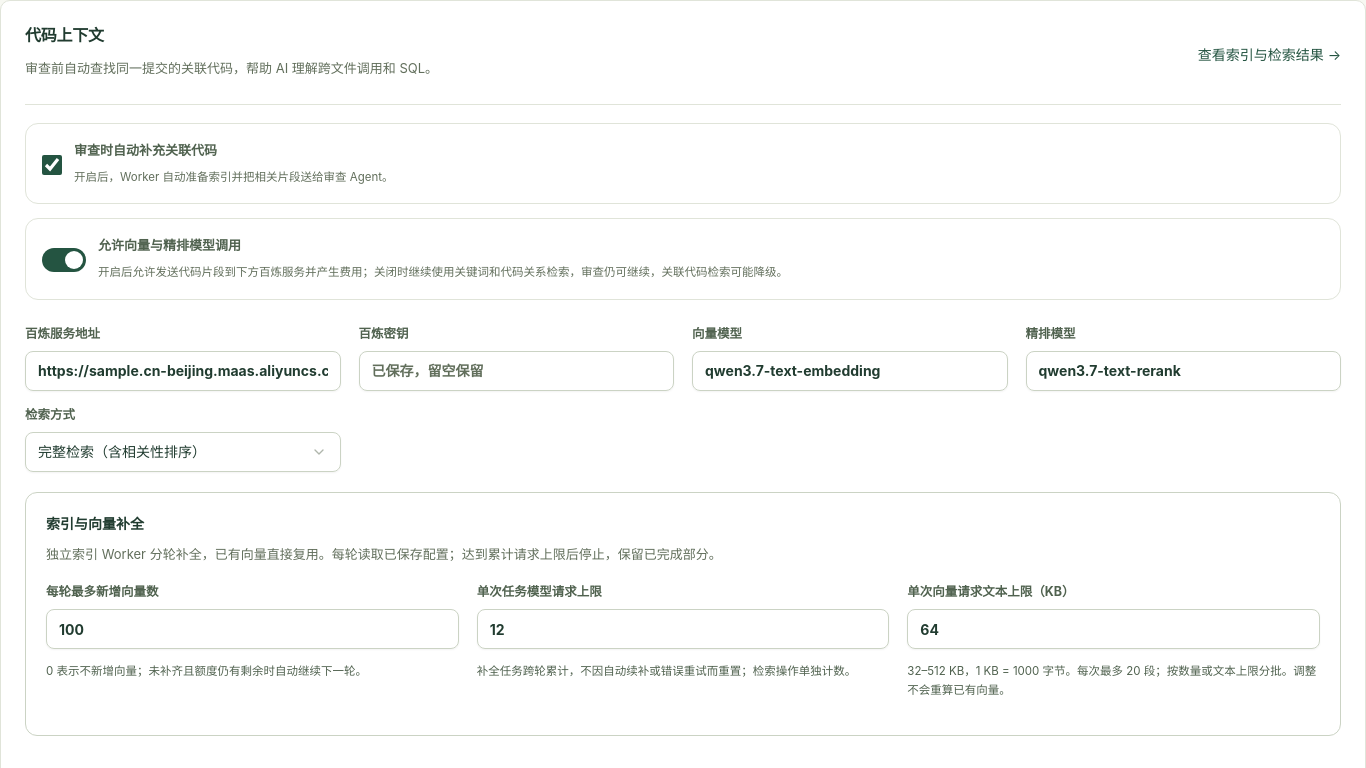
Test: 代码检索页面 › 保存后清空输入密钥，保留后端配置状态
The width and height of the screenshot is (1366, 768).
Type "test-new-key" into the password field labelled "百炼密钥" at (516, 371), box x1=358 y1=351 x2=674 y2=391
(page scrolled)
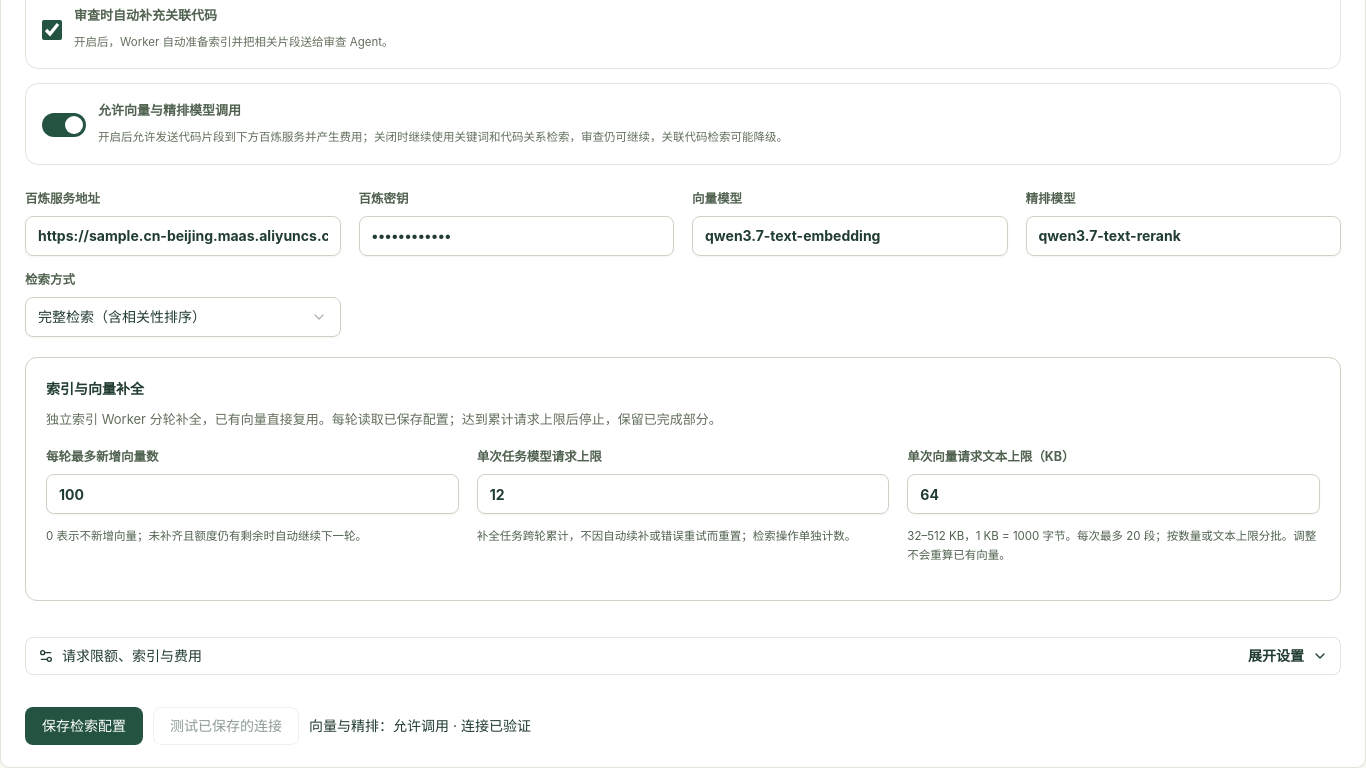
Click the button "保存检索配置" at (84, 726), box x1=25 y1=707 x2=143 y2=745
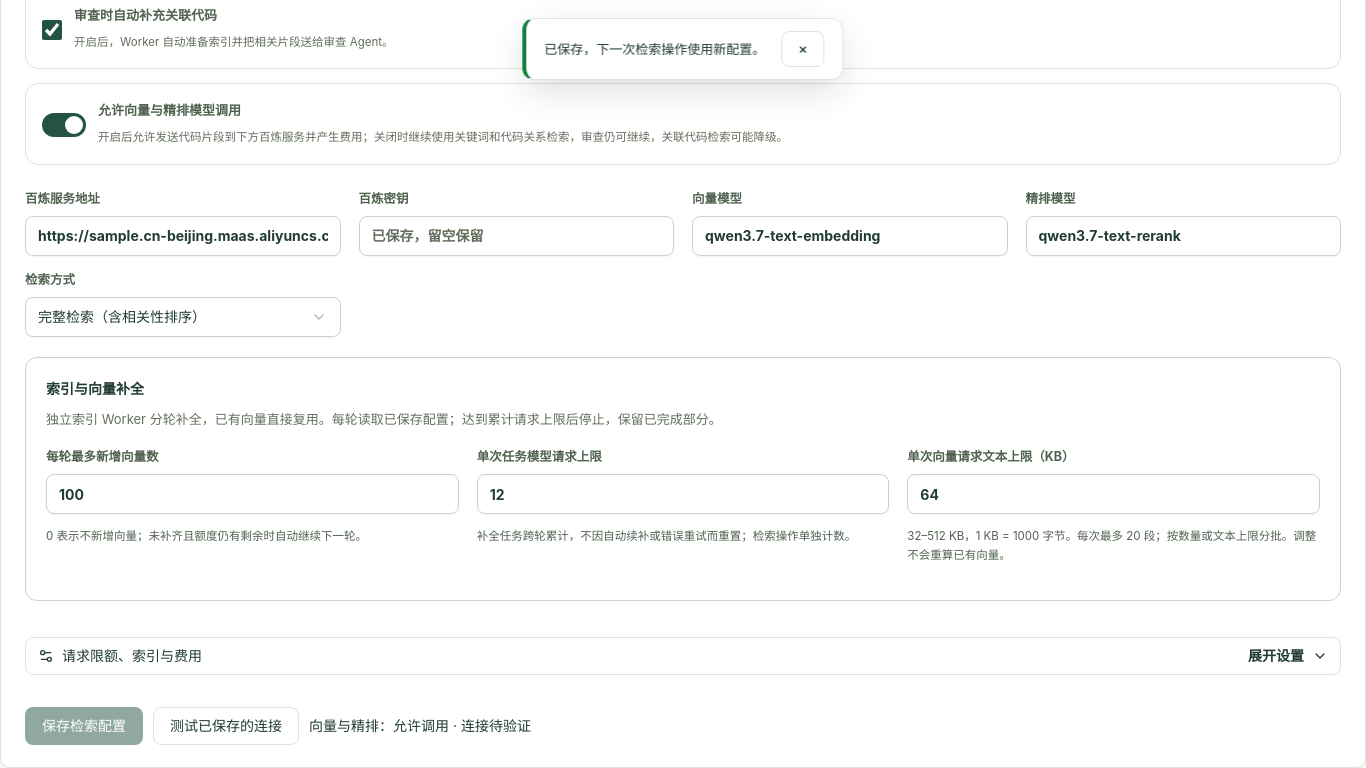
Expected: the password field labelled "百炼密钥" is empty, x1=358 y1=216 x2=674 y2=256
Expected: the text "已保存，下一次检索操作使用新配置。" is shown, x1=544 y1=38 x2=765 y2=60
